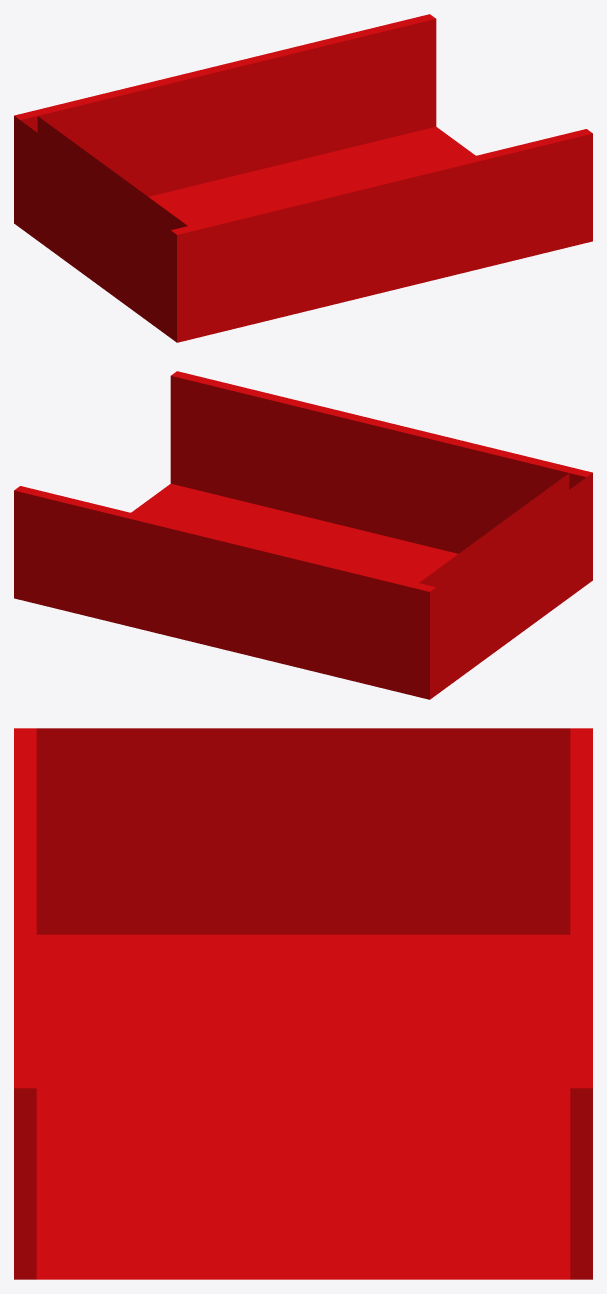
Rendered from SM_Garage.fbx.
3 renders of one model, top to bottom at view 1: azimuth 30°, elevation 25°; view 2: azimuth 150°, elevation 25°; view 3: azimuth 270°, elevation 25°, orthographic. The views are drawn at different scales.
Visible parts, largest first — view 1: SM_Garage; view 2: SM_Garage; view 3: SM_Garage.
Boxes of the visible parts, x1,y1,x2,y2 form: SM_Garage: (14, 14, 592, 342); SM_Garage: (14, 371, 592, 699); SM_Garage: (14, 728, 592, 1279).
Size of the model in its own units: 15997 by 3966 by 10868.
